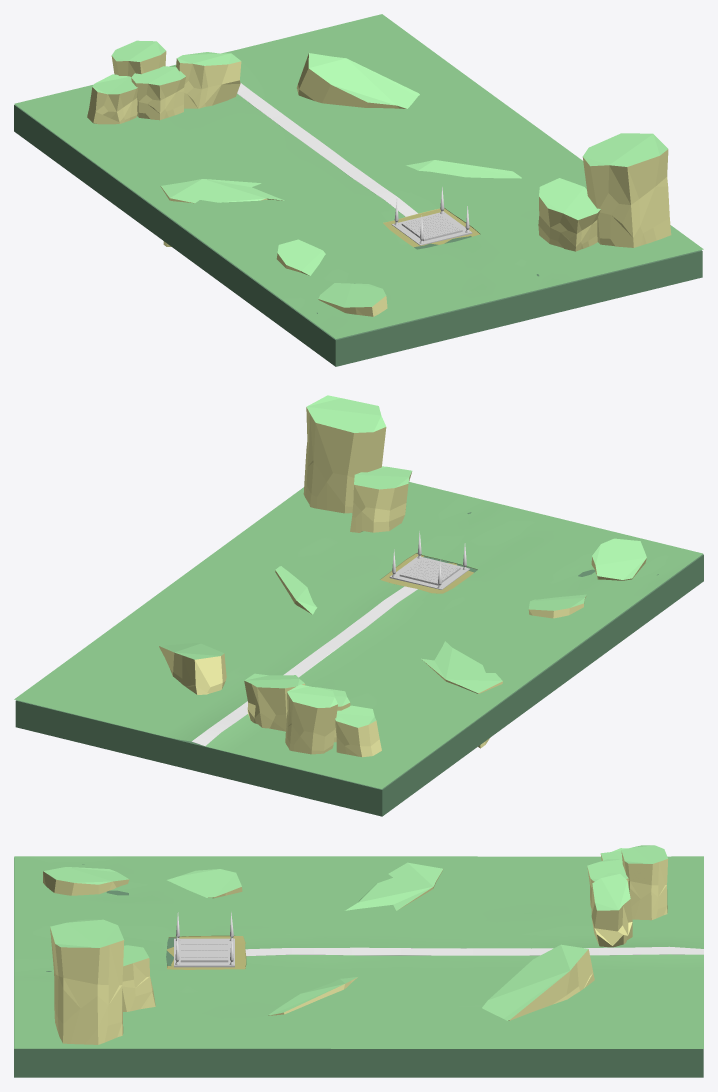
Rendered from cell_arena.glb.
The picture shows the model from 3 angles, top to bottom: view 1: azimuth 30°, elevation 25°; view 2: azimuth 150°, elevation 25°; view 3: azimuth 270°, elevation 25°; orthographic projection. The views are drawn at different scales.
Parts seen in each view (by area): view 1: Object_10, Object_2, Object_7, Object_6, Object_12, Object_4, Object_11, Object_3; view 2: Object_10, Object_2, Object_7, Object_6, Object_12, Object_4, Object_11; view 3: Object_10, Object_2, Object_7, Object_6, Object_12, Object_4, Object_11, Object_3.
Boxes of the visible parts, left/top/right/bottom form: Object_10: left=14, top=14, right=703, bottom=338; Object_2: left=14, top=104, right=702, bottom=366; Object_7: left=87, top=51, right=671, bottom=356; Object_6: left=92, top=40, right=667, bottom=307; Object_12: left=237, top=83, right=417, bottom=216; Object_4: left=402, top=214, right=461, bottom=239; Object_11: left=383, top=208, right=480, bottom=247; Object_3: left=391, top=212, right=472, bottom=245; Object_10: left=14, top=482, right=702, bottom=788; Object_2: left=15, top=512, right=703, bottom=816; Object_7: left=159, top=407, right=646, bottom=757; Object_6: left=159, top=395, right=646, bottom=727; Object_12: left=192, top=586, right=417, bottom=746; Object_4: left=400, top=558, right=459, bottom=583; Object_11: left=380, top=553, right=477, bottom=593; Object_10: left=14, top=856, right=703, bottom=1048; Object_2: left=14, top=857, right=703, bottom=1077; Object_7: left=43, top=851, right=668, bottom=1044; Object_6: left=43, top=845, right=667, bottom=1020; Object_12: left=245, top=946, right=703, bottom=956; Object_4: left=181, top=940, right=227, bottom=960; Object_11: left=167, top=935, right=246, bottom=969; Object_3: left=174, top=938, right=234, bottom=967.
Bounding box in the file's own units: 28.23 × 10.74 × 42.73.
